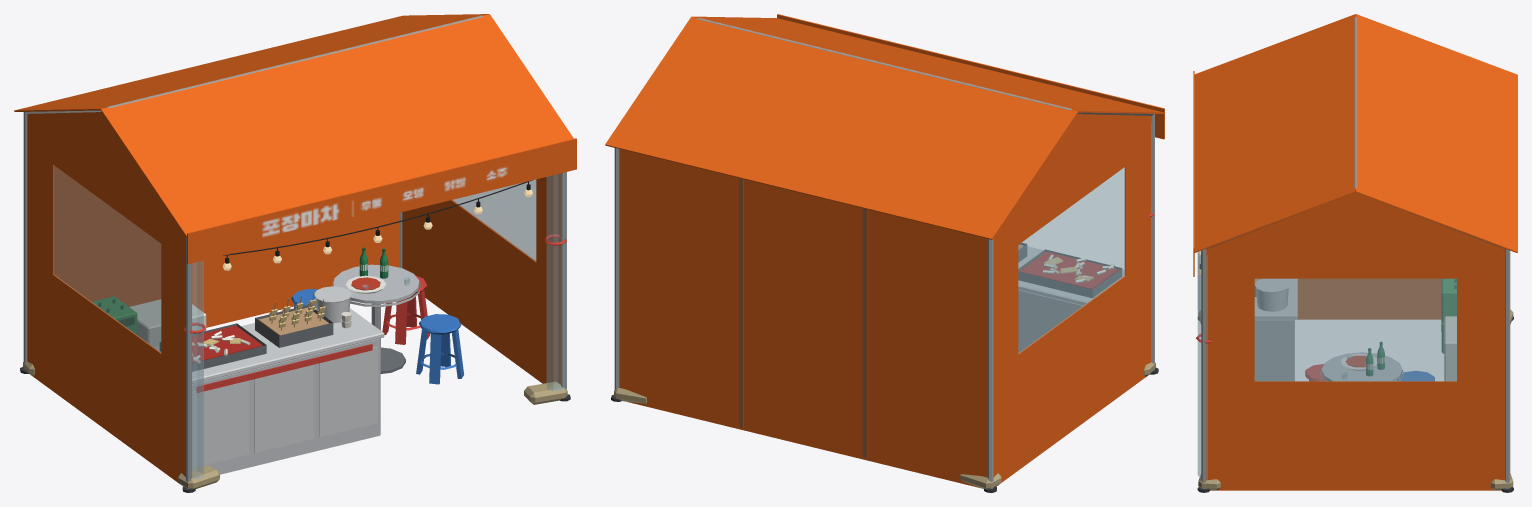
File: SC_Str_Pojangmacha.gltf
3 views of the same model, side by side, from view 1: azimuth 30°, elevation 25°; view 2: azimuth 150°, elevation 25°; view 3: azimuth 270°, elevation 25° (orthographic). The views are drawn at different scales.
Parts seen in each view (by area): view 1: SC_Str_Pojangmacha; view 2: SC_Str_Pojangmacha; view 3: SC_Str_Pojangmacha.
Part boxes in pixels (x1,y1,x2,y2): SC_Str_Pojangmacha: [14, 14, 576, 492]; SC_Str_Pojangmacha: [605, 14, 1164, 492]; SC_Str_Pojangmacha: [1193, 14, 1517, 492].
Size of the model in its own units: 3.32 by 2.64 by 2.57.
Materials: 4 (4 with a texture image).
